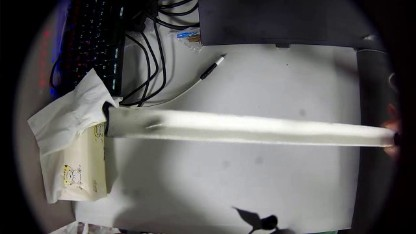gangzhu: (141, 117, 165, 132)
